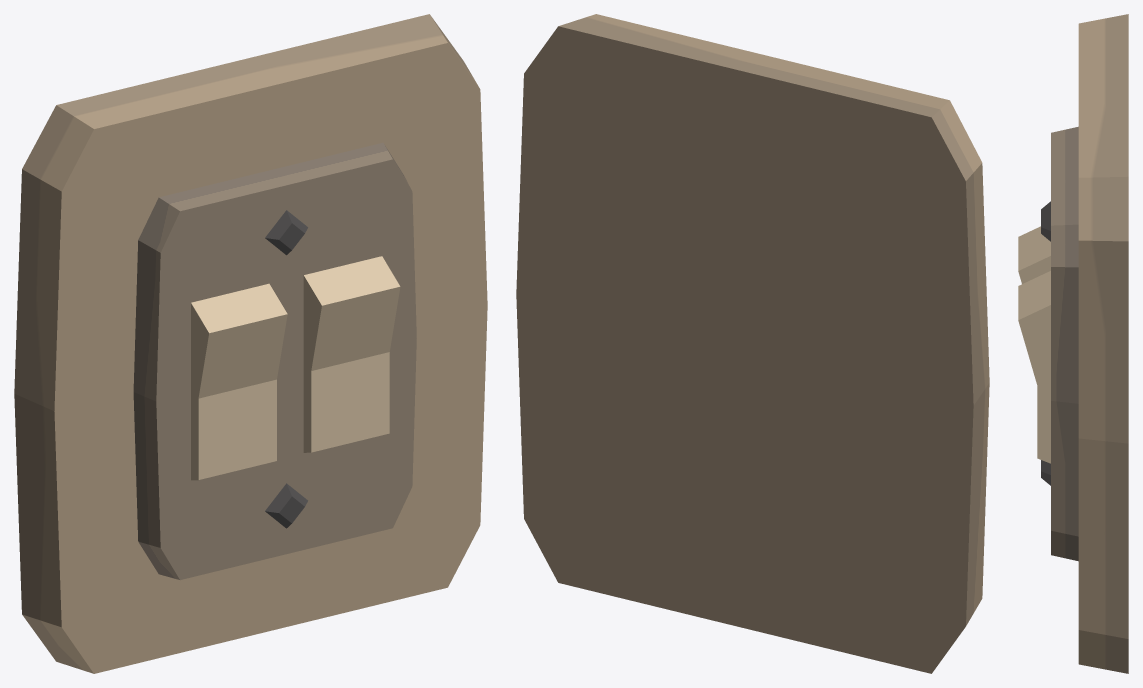
Rendered from SM_Prop_Light_Switch_01.fbx.
3 views of the same model, side by side, from view 1: azimuth 30°, elevation 25°; view 2: azimuth 150°, elevation 25°; view 3: azimuth 270°, elevation 25° (orthographic). The views are drawn at different scales.
Visible parts, largest first — view 1: SM_Prop_Light_Switch_01; view 2: SM_Prop_Light_Switch_01; view 3: SM_Prop_Light_Switch_01.
Boxes of the visible parts, x1=… form: SM_Prop_Light_Switch_01: x1=14, y1=14, x2=487, y2=673; SM_Prop_Light_Switch_01: x1=516, y1=14, x2=989, y2=673; SM_Prop_Light_Switch_01: x1=1018, y1=14, x2=1128, y2=673.
Size of the model in its own units: 21.68 by 25.21 by 5.08.
1 material, 1 textured.
